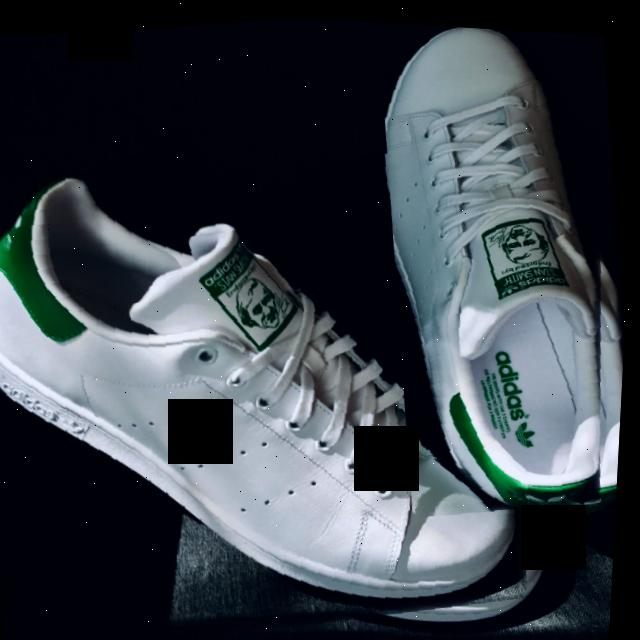shoe: (0, 112, 586, 640), (358, 18, 640, 523)
